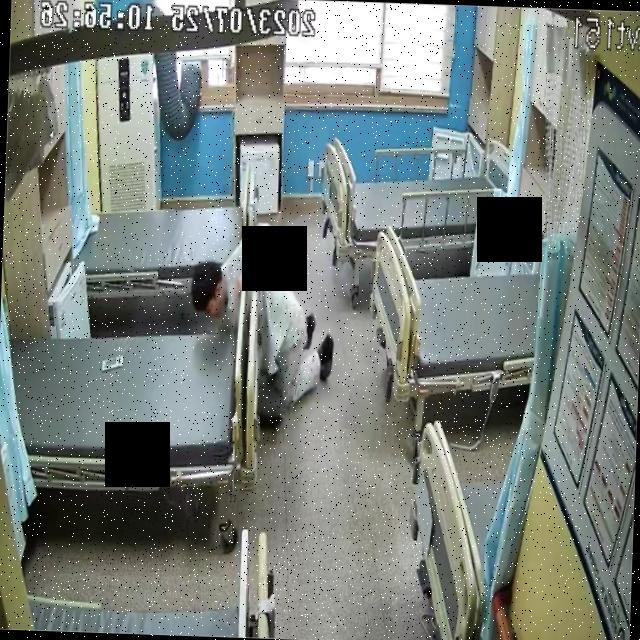bed: (3, 316, 243, 498), (363, 225, 541, 408), (322, 134, 511, 261), (71, 175, 256, 302)
fall: (188, 220, 337, 410)
patient: (186, 218, 336, 412)
